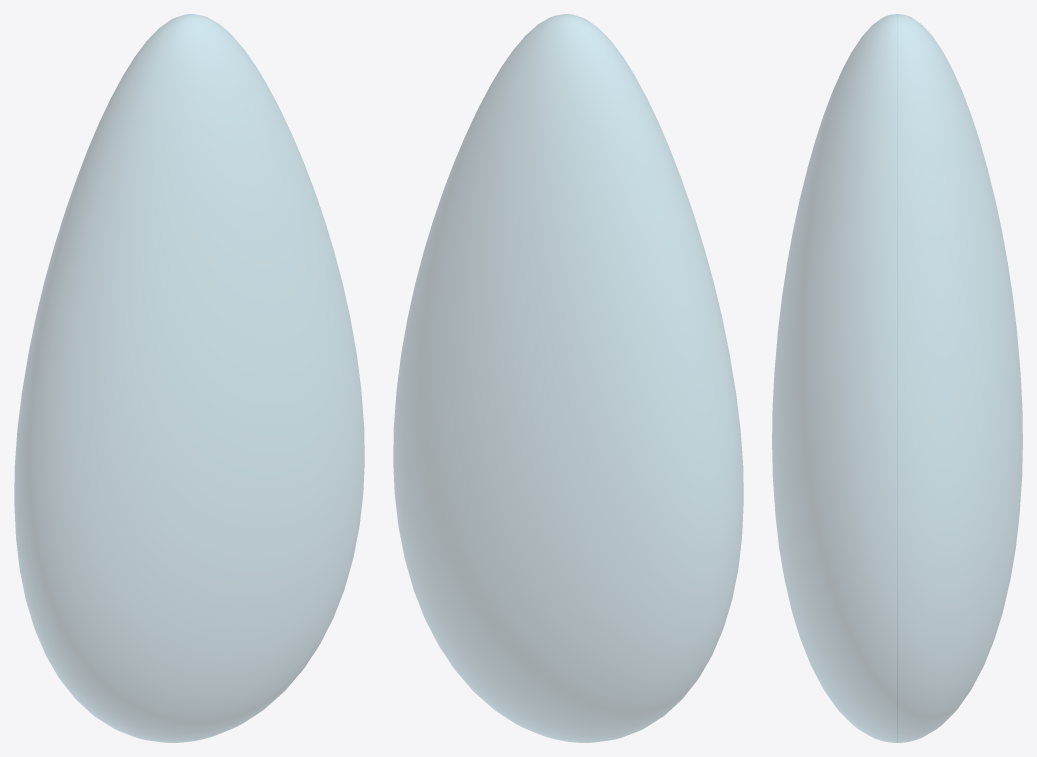
3 views of the same model, side by side, from view 1: azimuth 30°, elevation 25°; view 2: azimuth 150°, elevation 25°; view 3: azimuth 270°, elevation 25° (orthographic).
Visible parts, largest first — view 1: gel-body; view 2: gel-body; view 3: gel-body.
Boxes of the visible parts, x1,y1,x2,y2 form: gel-body: (14,14,364,742); gel-body: (393,14,743,742); gel-body: (772,14,1022,742).
Size of the model in its own units: 0.9246 by 1.94 by 0.6196.
